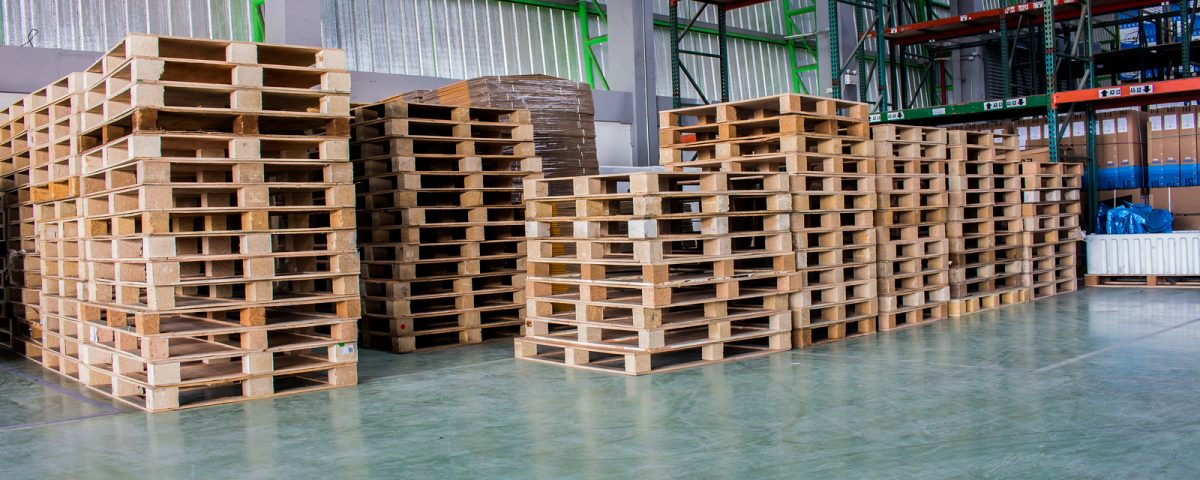pallet: (525, 123, 1088, 367), (13, 62, 383, 426), (356, 41, 636, 376)
